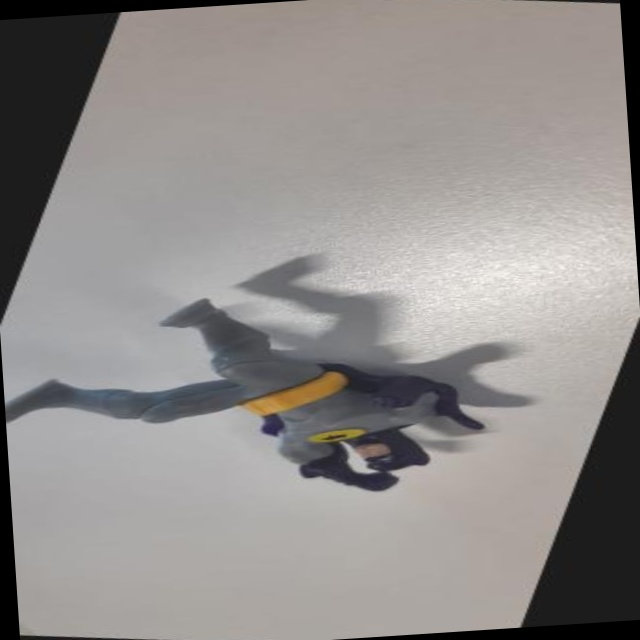Batman: (0, 264, 536, 522)
